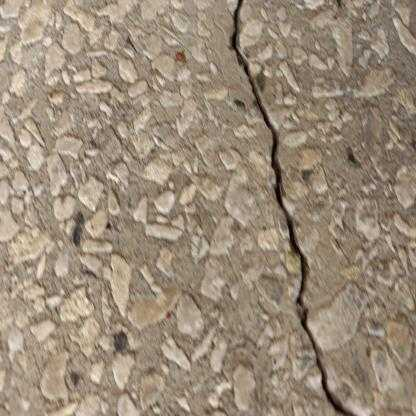crack: (228, 1, 358, 416)
